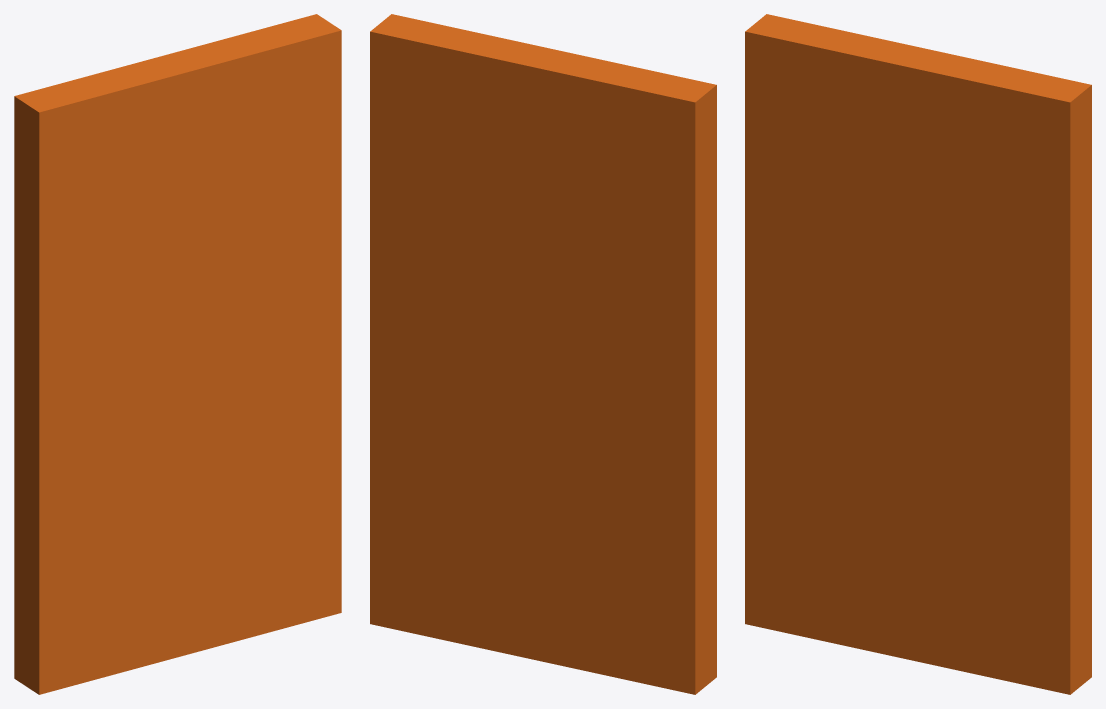
3 views of the same model, side by side, from view 1: azimuth 30°, elevation 25°; view 2: azimuth 150°, elevation 25°; view 3: azimuth 330°, elevation 25° (orthographic).
Parts seen in each view (by area): view 1: 立方体.118; view 2: 立方体.118; view 3: 立方体.118.
Part boxes in pixels (<box>): 立方体.118: <box>14,14,341,694</box>; 立方体.118: <box>370,14,716,694</box>; 立方体.118: <box>745,14,1091,694</box>.
Size of the model in its own units: 314 by 558 by 54.84.
